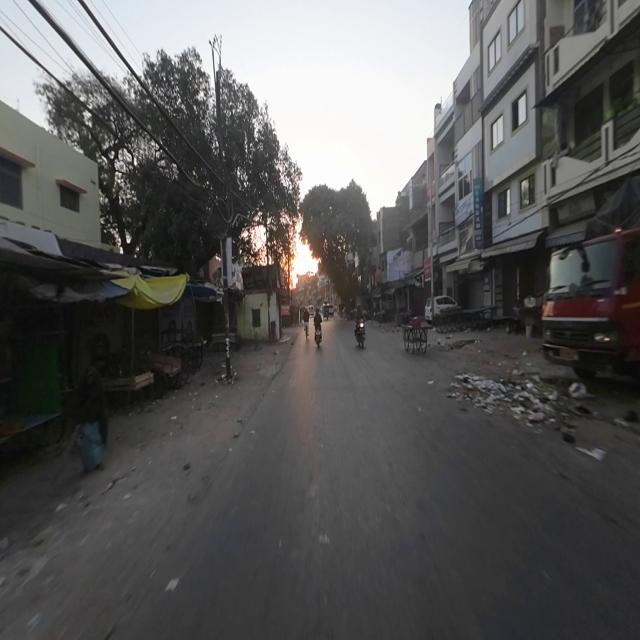Garbage: (456, 369, 604, 414)
